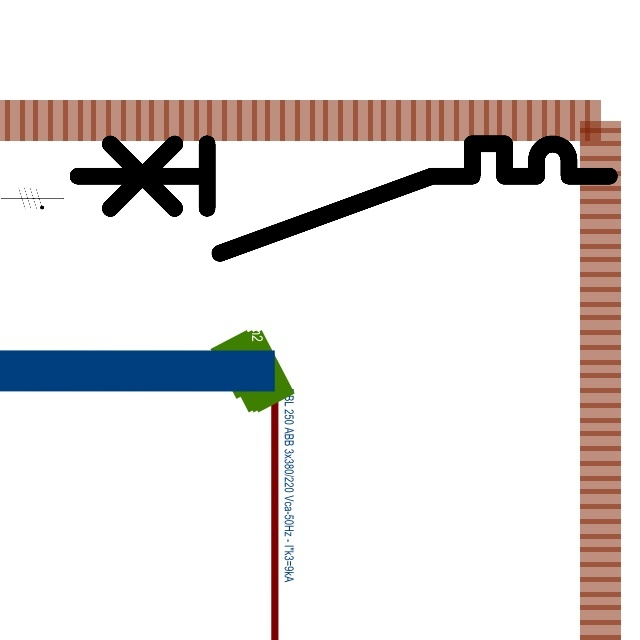interruptor_termomagnetico: (64, 130, 623, 267)
